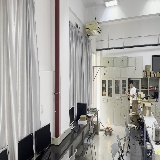fire: (106, 111, 110, 130)
